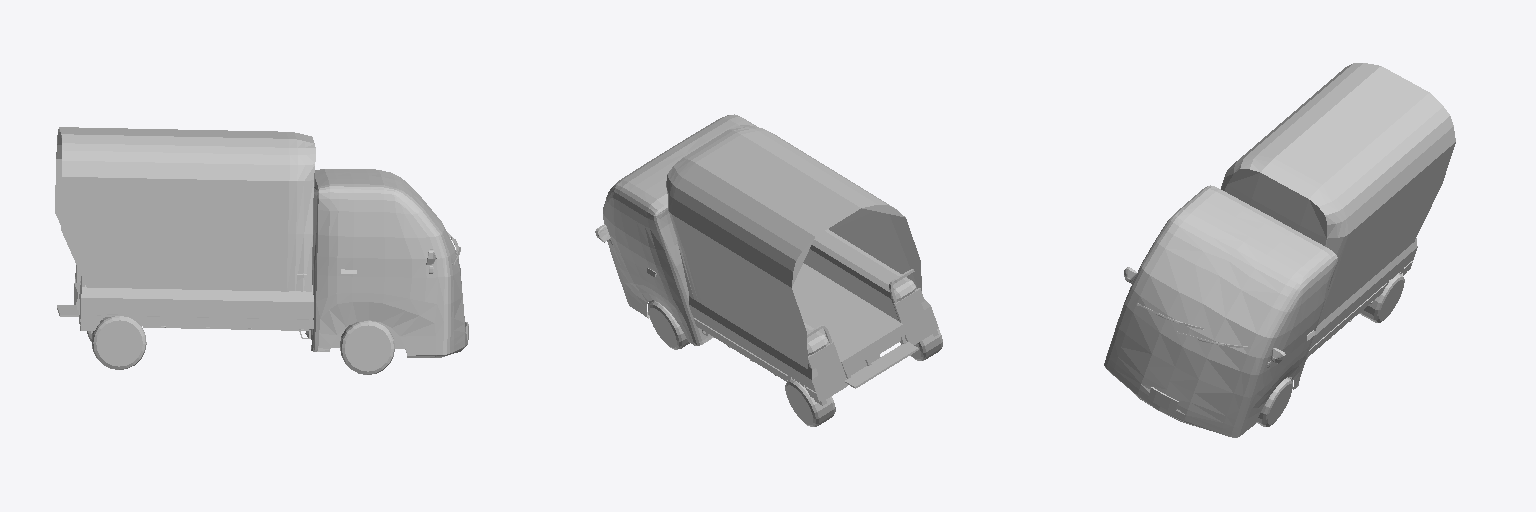
File: mini-truck-scene.obj
3 renders of one model, left to right at view 1: azimuth 30°, elevation 25°; view 2: azimuth 150°, elevation 25°; view 3: azimuth 270°, elevation 25°, orthographic.
Parts seen in each view (by area): view 1: polySurface96; view 2: polySurface96; view 3: polySurface96.
Boxes of the visible parts, box(x1,y1,x2,y2) form: polySurface96: box(55, 127, 468, 374); polySurface96: box(595, 114, 942, 426); polySurface96: box(1104, 63, 1455, 437).
Size of the model in its own units: 69.04 by 45.45 by 60.52.